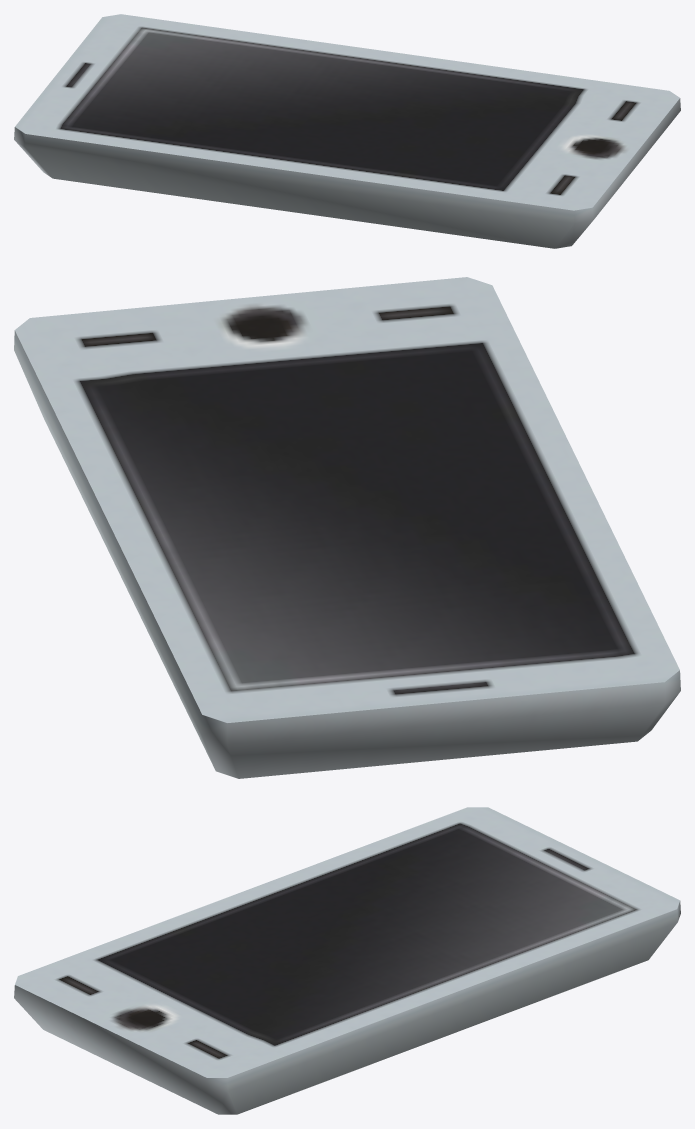
File: ShenFuXiuXiShi_01_shouji_01.FBX
3 renders of one model, top to bottom at view 1: azimuth 30°, elevation 25°; view 2: azimuth 150°, elevation 25°; view 3: azimuth 270°, elevation 25°, orthographic. The views are drawn at different scales.
Parts seen in each view (by area): view 1: ShenFuXiuXiShi_01_shouji_01; view 2: ShenFuXiuXiShi_01_shouji_01; view 3: ShenFuXiuXiShi_01_shouji_01.
Part boxes in pixels (<box>): ShenFuXiuXiShi_01_shouji_01: <box>14,14,680,248</box>; ShenFuXiuXiShi_01_shouji_01: <box>14,277,680,778</box>; ShenFuXiuXiShi_01_shouji_01: <box>14,807,680,1114</box>.
Size of the model in its own units: 97.09 by 8.49 by 101.
